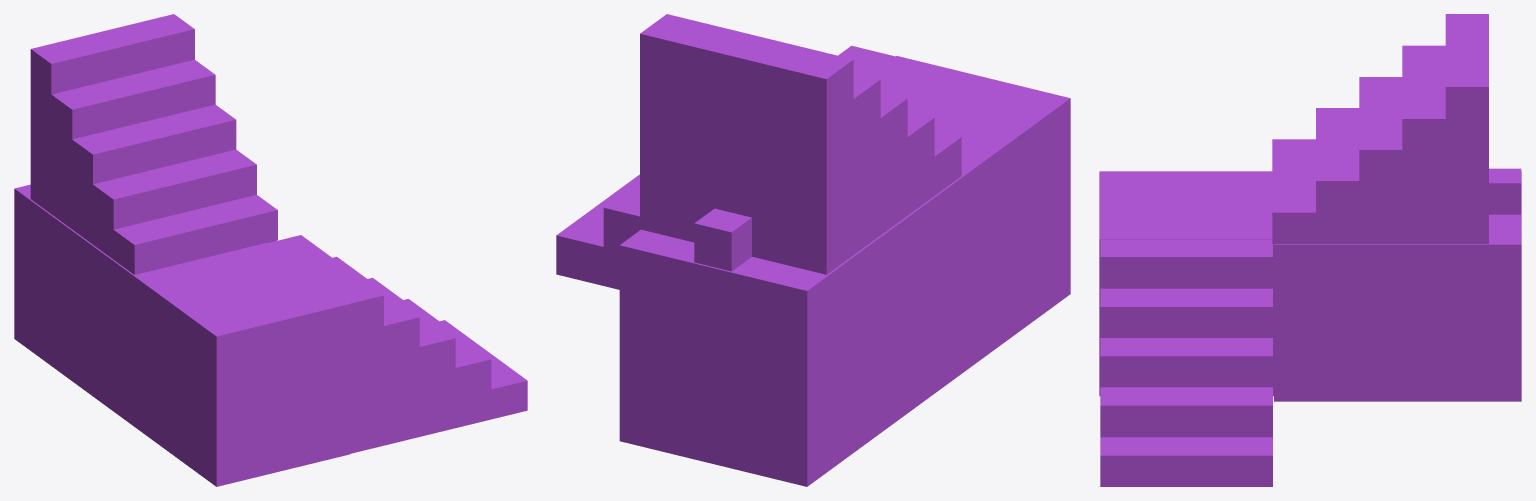
Rendered from stairs.fbx.
3 renders of one model, left to right at view 1: azimuth 30°, elevation 25°; view 2: azimuth 150°, elevation 25°; view 3: azimuth 270°, elevation 25°, orthographic. The views are drawn at different scales.
Parts seen in each view (by area): view 1: Cube, Cube.001; view 2: Cube, Cube.001; view 3: Cube, Cube.001.
Boxes of the visible parts, bbox=[...] form: Cube: bbox=[14, 184, 527, 486]; Cube.001: bbox=[30, 14, 277, 274]; Cube: bbox=[556, 45, 1070, 486]; Cube.001: bbox=[640, 14, 961, 274]; Cube: bbox=[1099, 171, 1521, 486]; Cube.001: bbox=[1272, 14, 1521, 243].
Size of the model in its own units: 2173 by 2009 by 2444.
